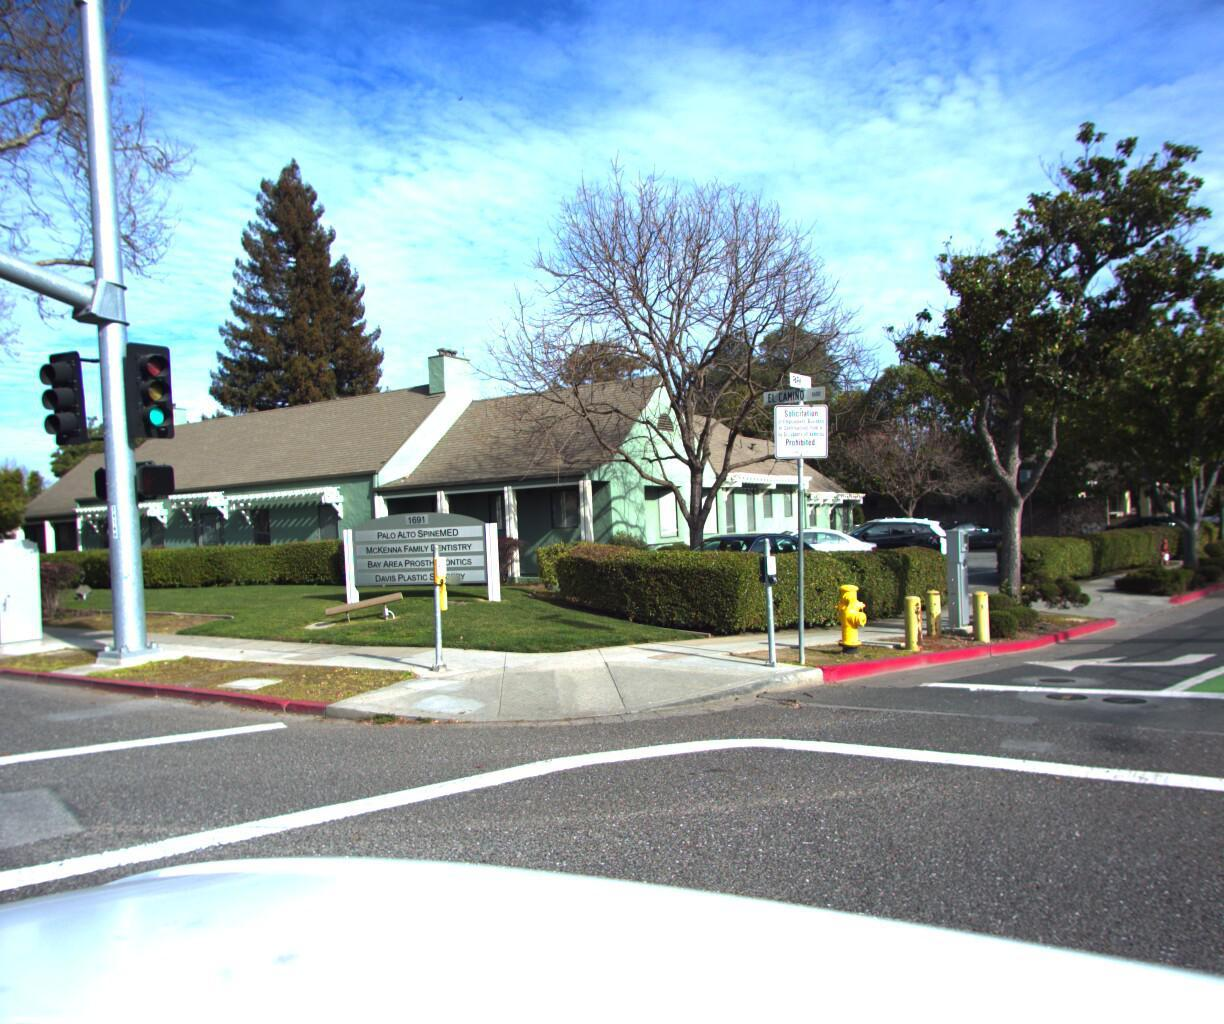car: (616, 523, 862, 620), (717, 518, 892, 579), (809, 513, 952, 564), (831, 507, 956, 560), (1109, 507, 1224, 547), (923, 513, 1024, 549), (1177, 499, 1224, 528)
